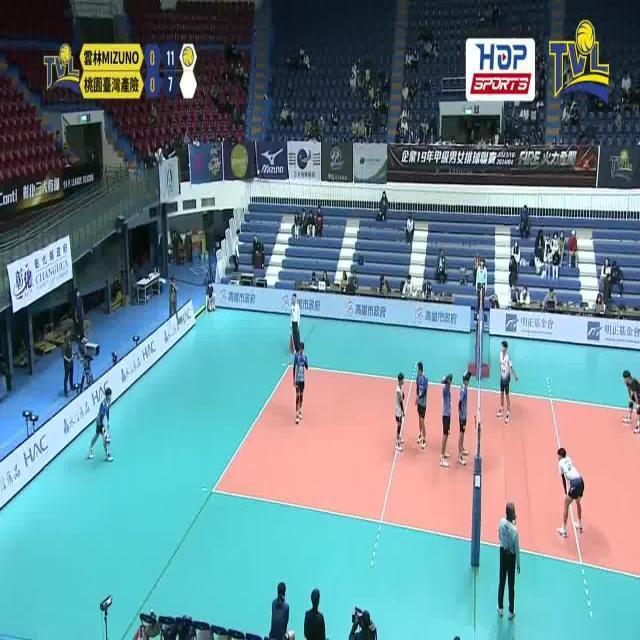volleyball: (104, 432, 112, 442)
